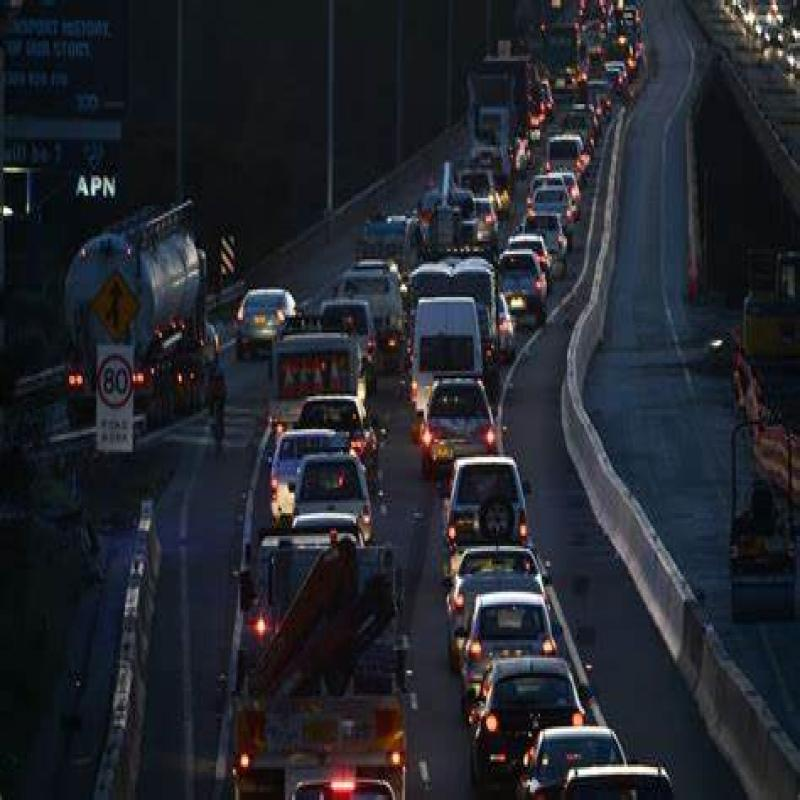car: (472, 652, 594, 793), (272, 410, 367, 565), (467, 583, 569, 720), (457, 546, 551, 657), (447, 458, 526, 581), (295, 434, 372, 550), (426, 380, 493, 492), (304, 380, 374, 478), (310, 283, 376, 383), (230, 272, 299, 360), (489, 251, 544, 338), (534, 182, 574, 240), (524, 212, 566, 267)
